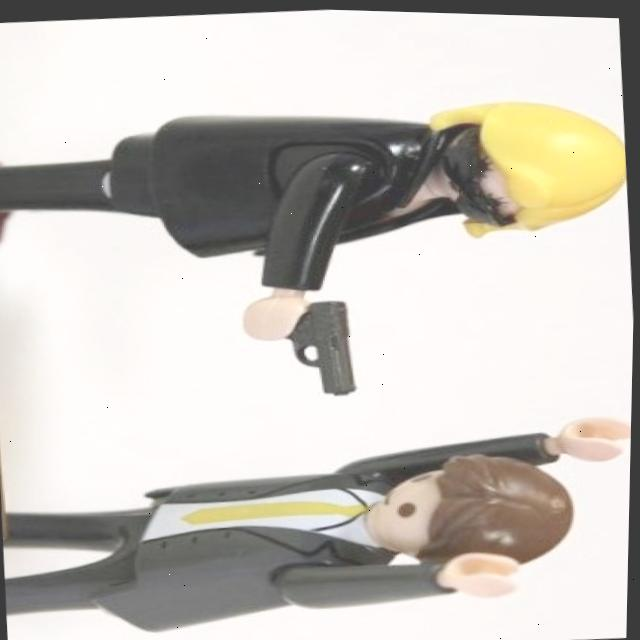pistol: (282, 295, 362, 398)
